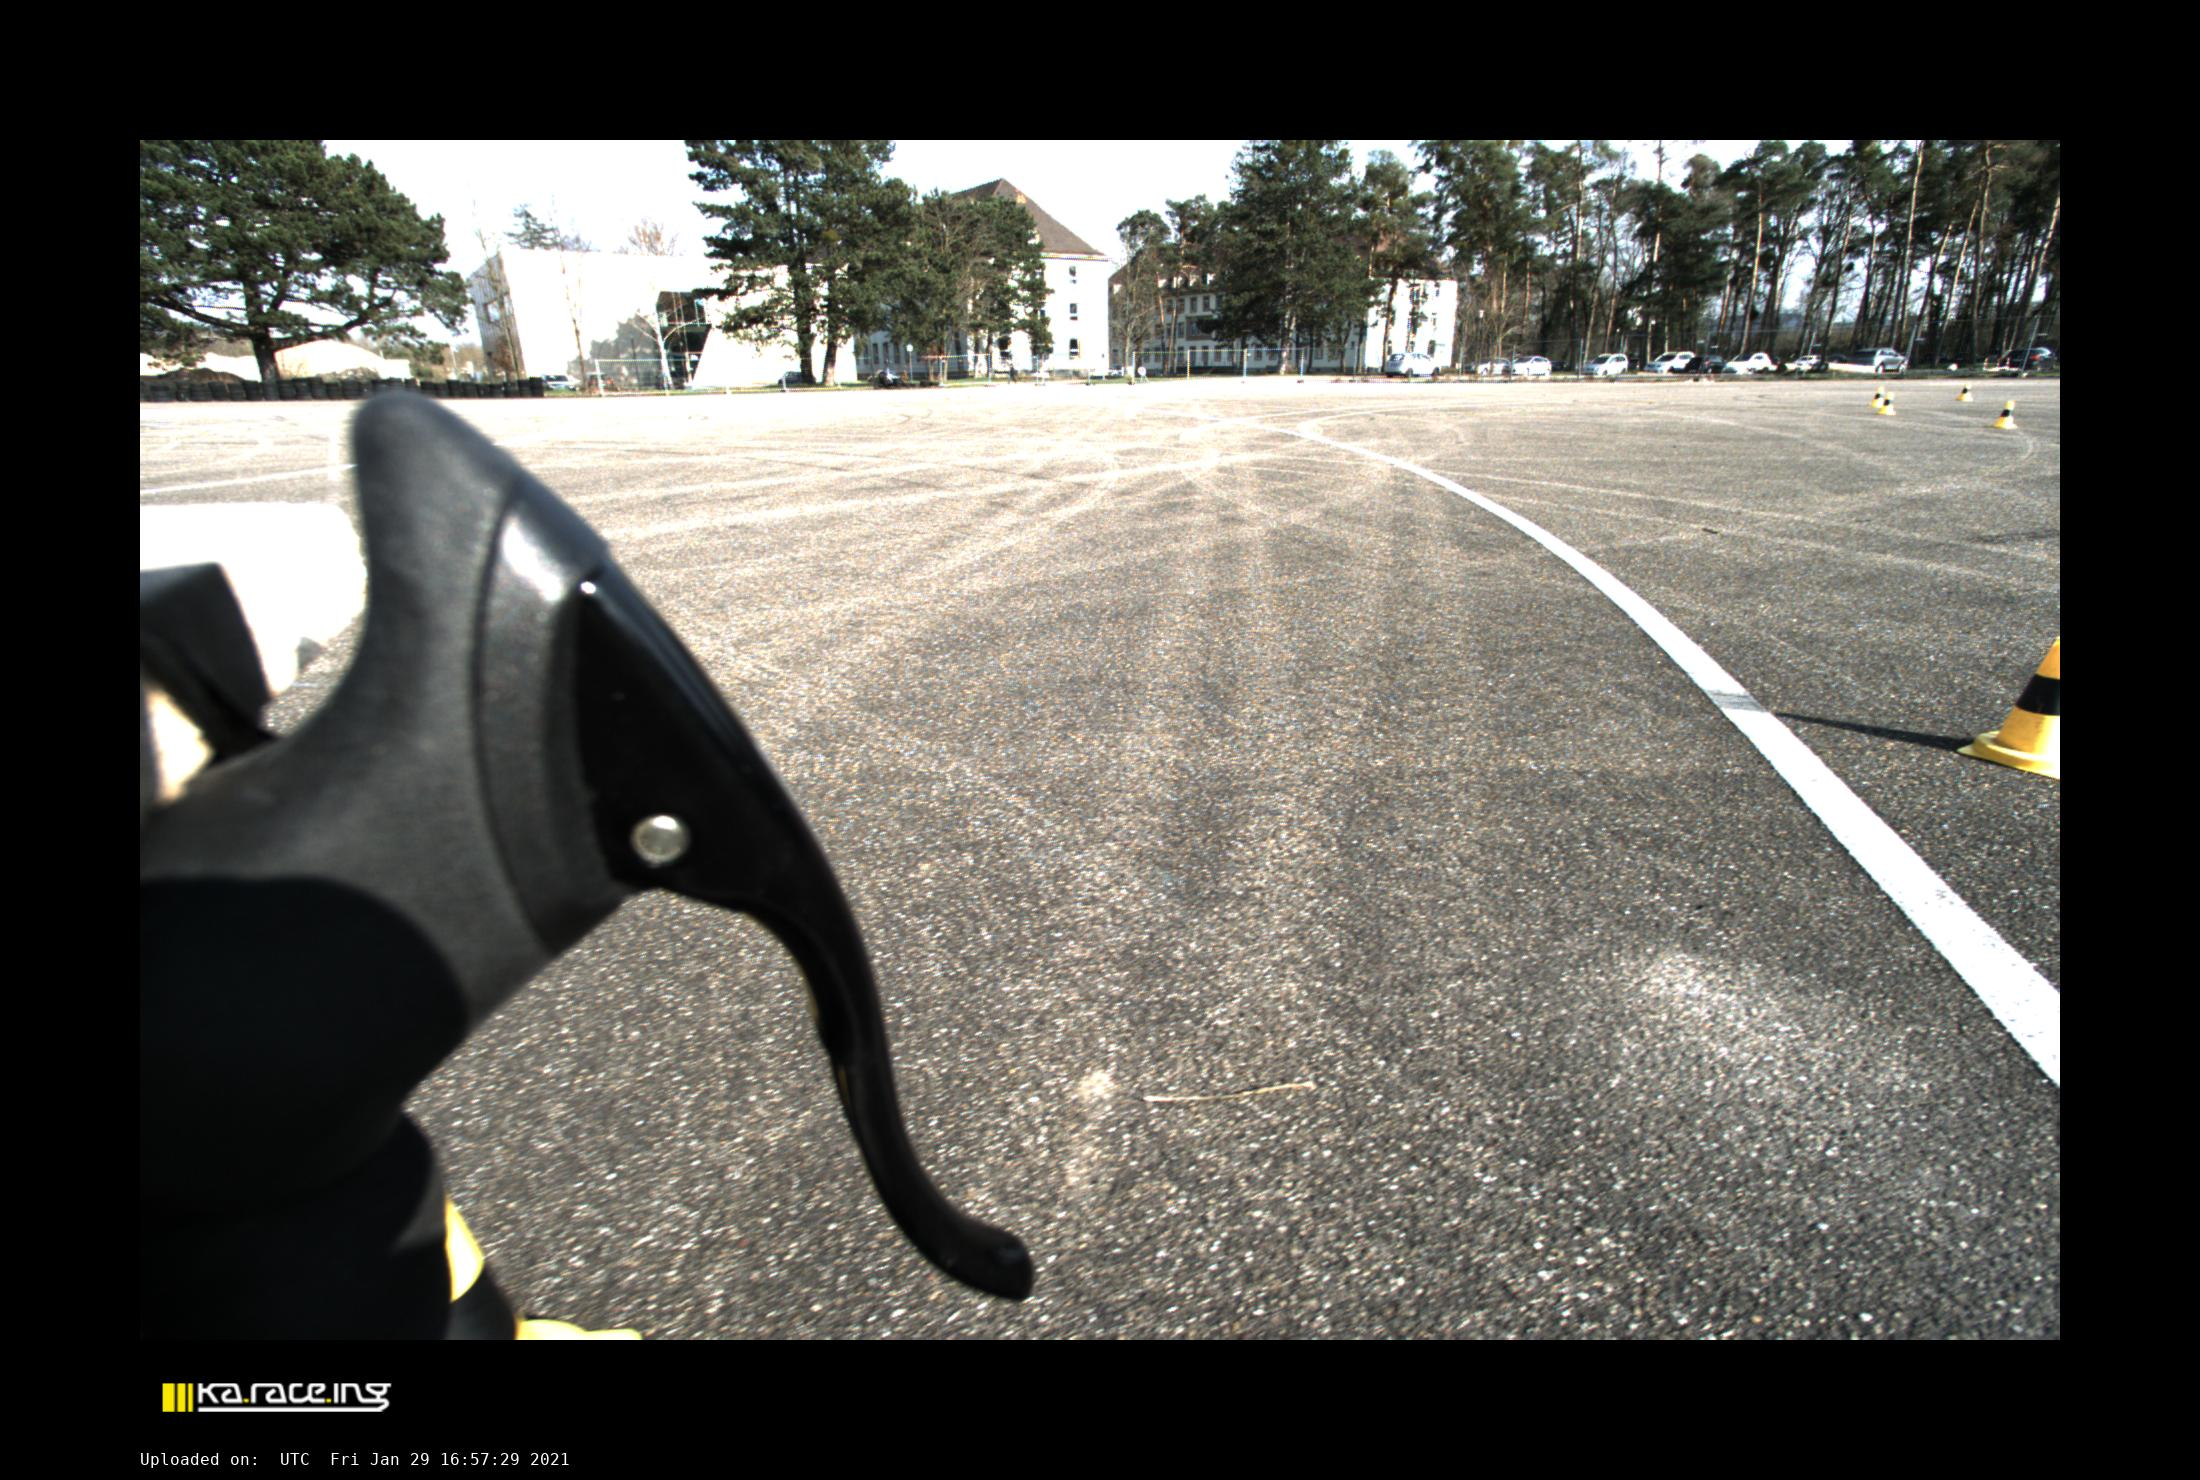yellow_cone: (1957, 640, 2060, 779), (1991, 400, 2018, 428), (1877, 393, 1896, 415), (1956, 383, 1974, 401), (1869, 387, 1883, 407)
